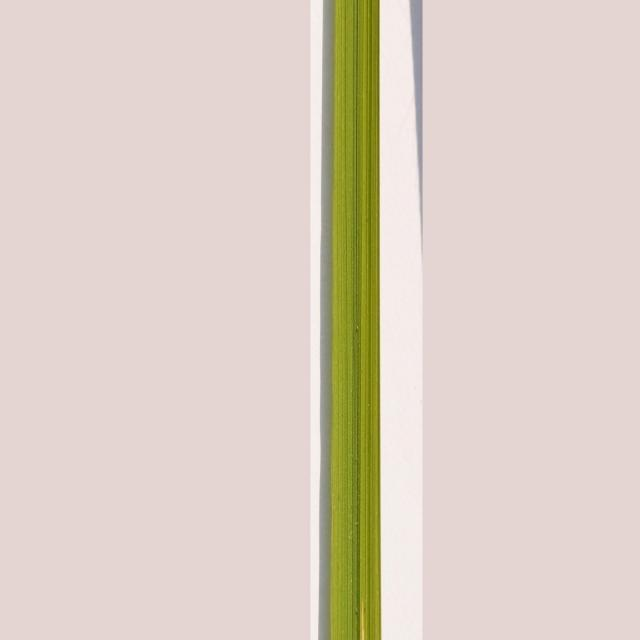leaf blight: (342, 570, 374, 640)
